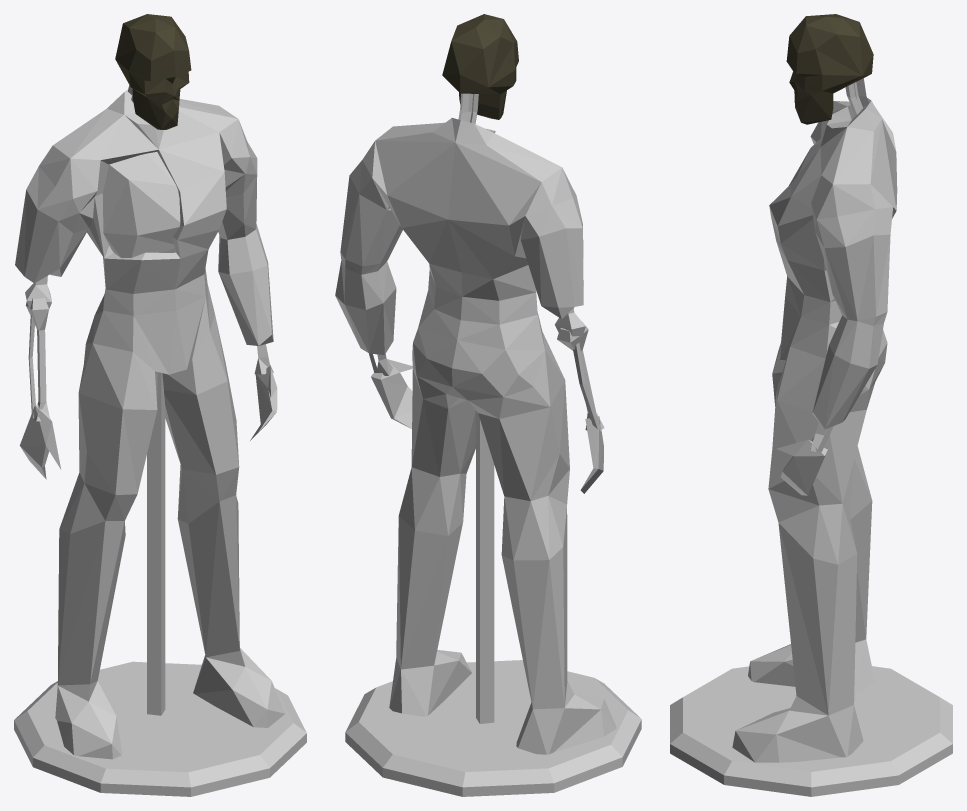
The model's file is NW_MISC_HUMAN_STANDY.OBJ.
3 renders of one model, left to right at view 1: azimuth 30°, elevation 25°; view 2: azimuth 150°, elevation 25°; view 3: azimuth 270°, elevation 25°, orthographic.
Visible parts, largest first — view 1: NW_MISC_HUMAN_STANDY; view 2: NW_MISC_HUMAN_STANDY; view 3: NW_MISC_HUMAN_STANDY.
Boxes of the visible parts, bbox=[...] form: NW_MISC_HUMAN_STANDY: bbox=[14, 14, 306, 796]; NW_MISC_HUMAN_STANDY: bbox=[335, 14, 641, 796]; NW_MISC_HUMAN_STANDY: bbox=[670, 14, 952, 796].
Size of the model in its own units: 0.701 by 1.87 by 0.6657.
